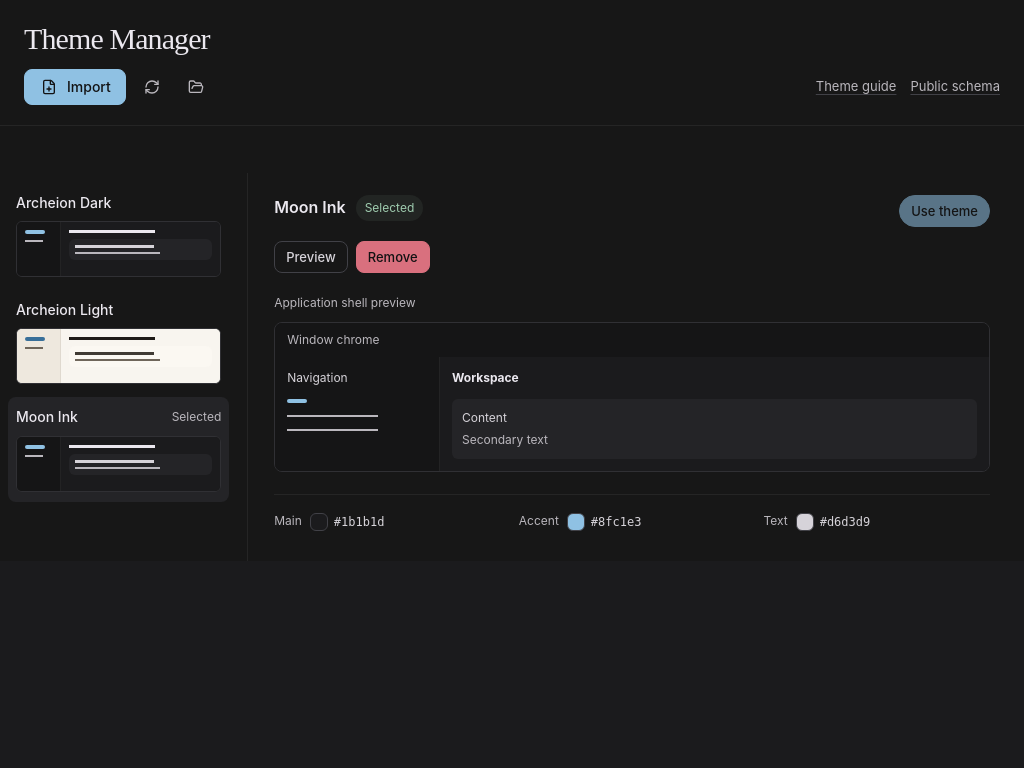
Test case: ThemeManagerSurface behavior › presents the shared app-theme management workflow
expect the button named "Reload themes" is shown: met, box [134,69,170,105]
expect the button named "Open themes folder" is shown: met, box [178,69,214,105]
Click the button "Archeion Dark".
click(119, 235)  # box [8,183,229,287]
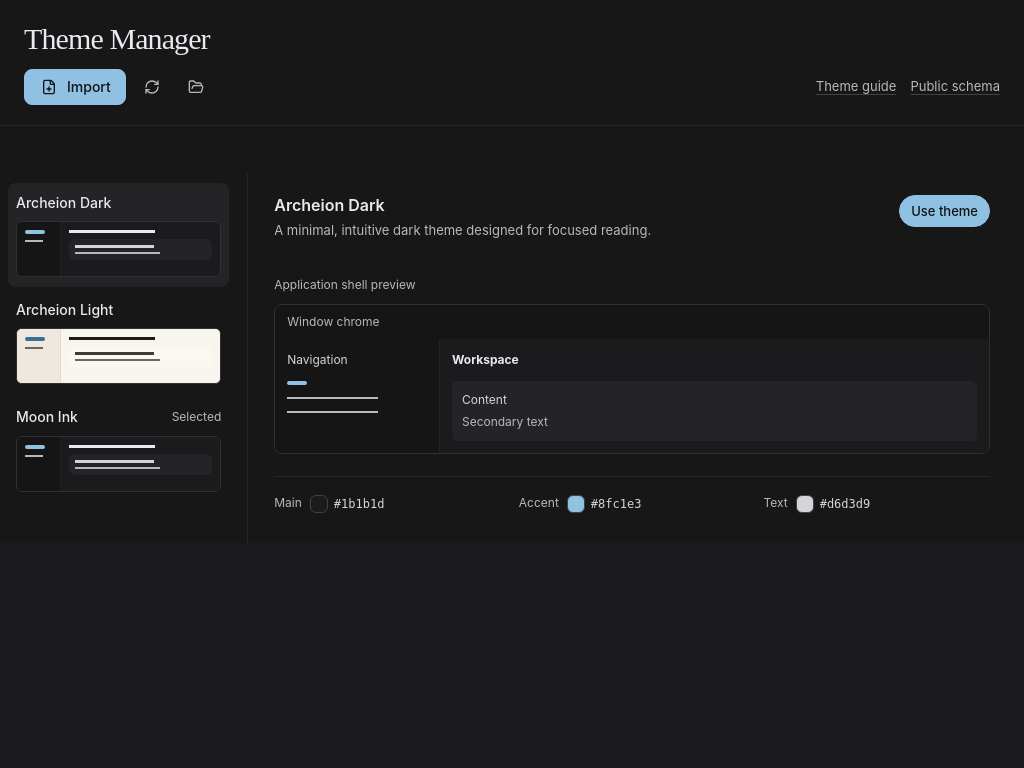
expect the text "A minimal, intuitive dark theme designed for focused reading." is shown: met, box [274,222,651,238]
Click the button "Archeion Light".
click(119, 342)  # box [8,290,229,394]
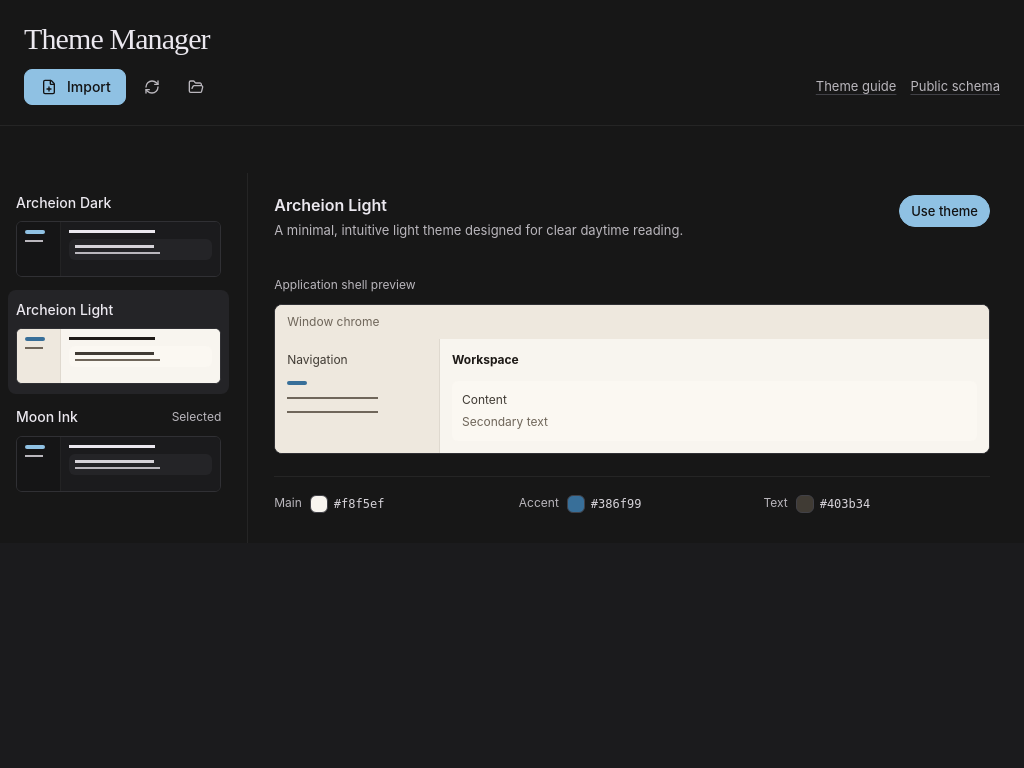
expect the text "A minimal, intuitive light theme designed for clear daytime reading." is shown: met, box [274,222,683,238]
